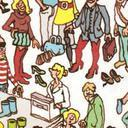waldo: (0, 33, 8, 61)
